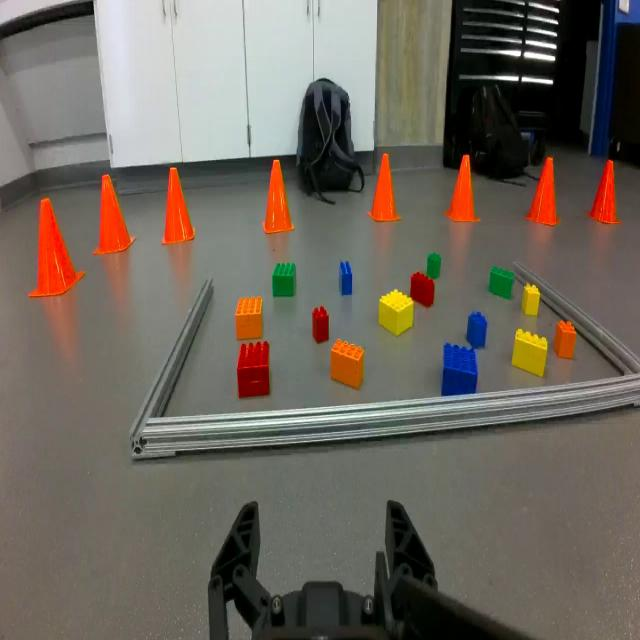block: (511, 329, 547, 377), (379, 290, 413, 337), (521, 285, 540, 316)
blue: (442, 343, 478, 396), (466, 311, 487, 349), (339, 260, 352, 296)
cone: (29, 194, 86, 300), (90, 168, 136, 259), (587, 152, 627, 228), (161, 162, 196, 246), (524, 153, 565, 224), (444, 151, 484, 222), (262, 155, 294, 236), (366, 152, 402, 224)
green: (488, 265, 514, 300), (272, 262, 297, 296), (427, 252, 440, 278)
metal barrier: (129, 259, 640, 460)
orange: (331, 339, 364, 389), (234, 297, 264, 339), (552, 321, 577, 357)
red goal: (237, 341, 270, 397), (410, 270, 434, 308), (312, 305, 329, 344)
